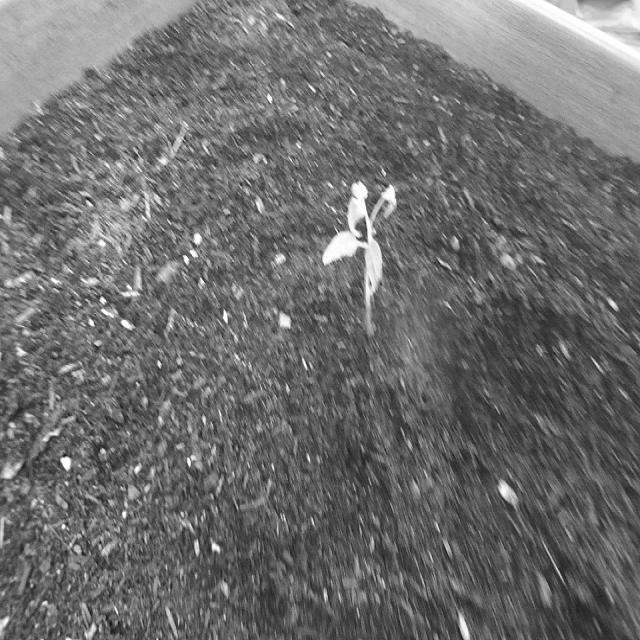Healthy: (320, 170, 399, 354)
